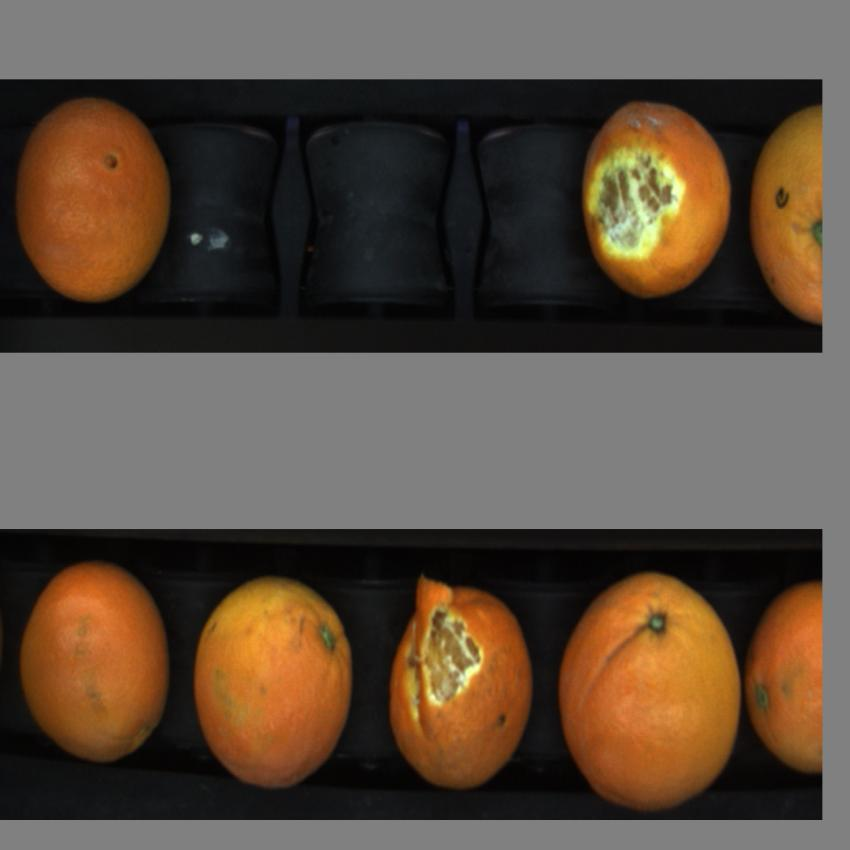Buen estado: (554, 572, 746, 807), (188, 573, 358, 791), (12, 96, 175, 304), (19, 563, 176, 773), (751, 97, 821, 329), (746, 577, 824, 771)
Mal estado: (580, 95, 739, 304), (389, 570, 539, 789)
